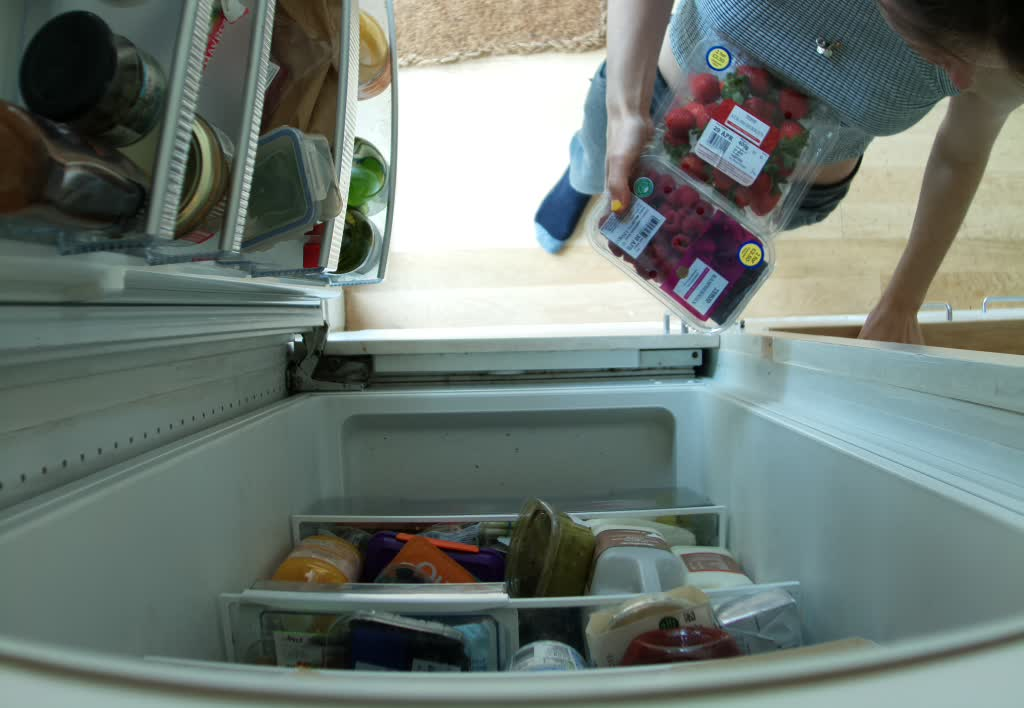soft-fruit: (652, 36, 836, 224), (591, 154, 780, 331)
